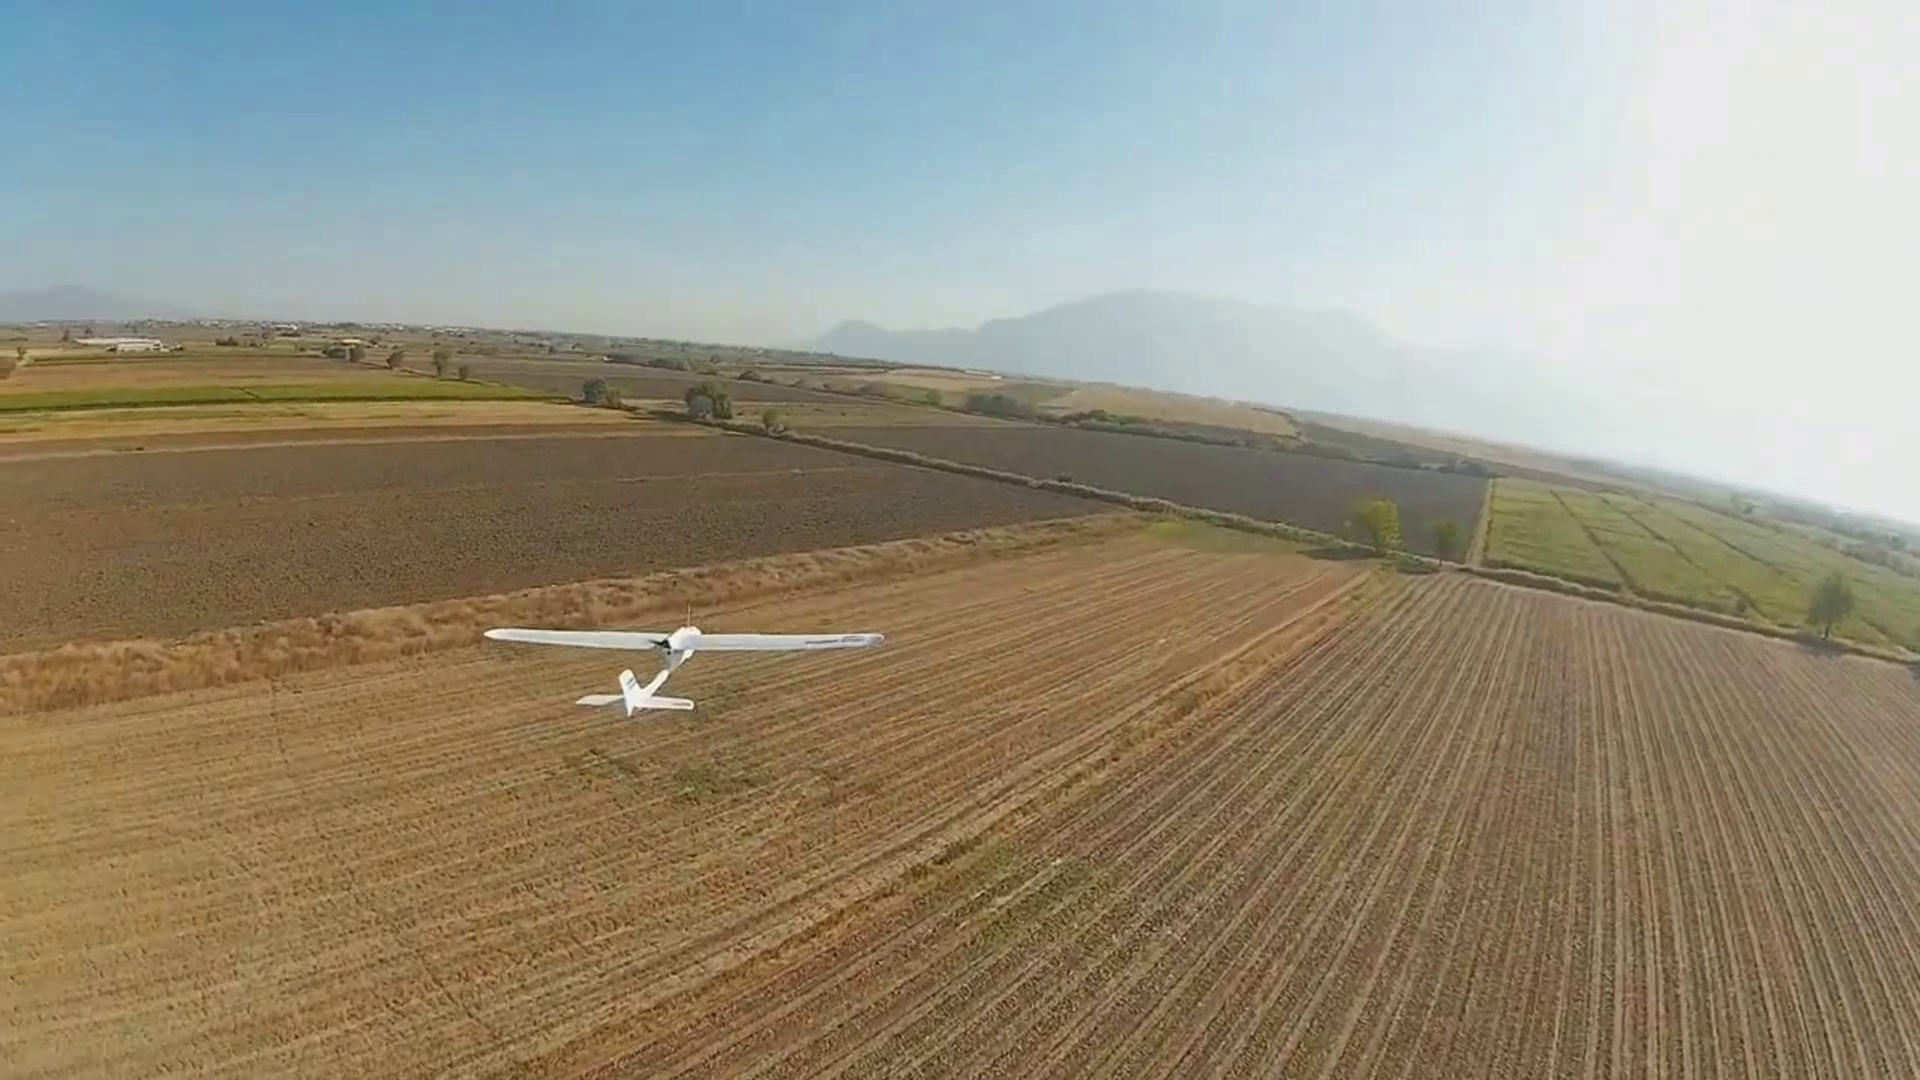airplane: (479, 621, 885, 712)
